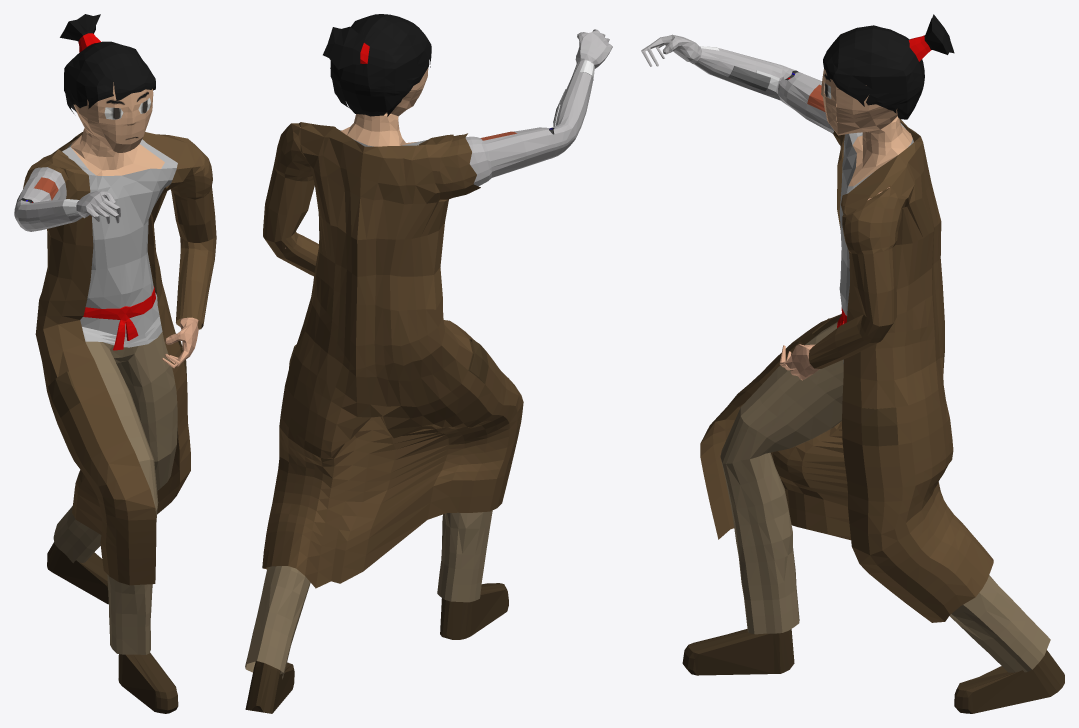
File: Special_Attack_000006.obj
The picture shows the model from 3 angles, left to right: view 1: azimuth 30°, elevation 25°; view 2: azimuth 150°, elevation 25°; view 3: azimuth 270°, elevation 25°; orthographic projection. The views are drawn at different scales.
Visible parts, largest first — view 1: Hair_Cube.004; view 2: Hair_Cube.004; view 3: Hair_Cube.004.
Boxes of the visible parts, <box> form: Hair_Cube.004: <box>14,14,216,713</box>; Hair_Cube.004: <box>245,14,612,713</box>; Hair_Cube.004: <box>641,14,1064,713</box>.
Size of the model in its own units: 1.52 by 3.67 by 2.12.
